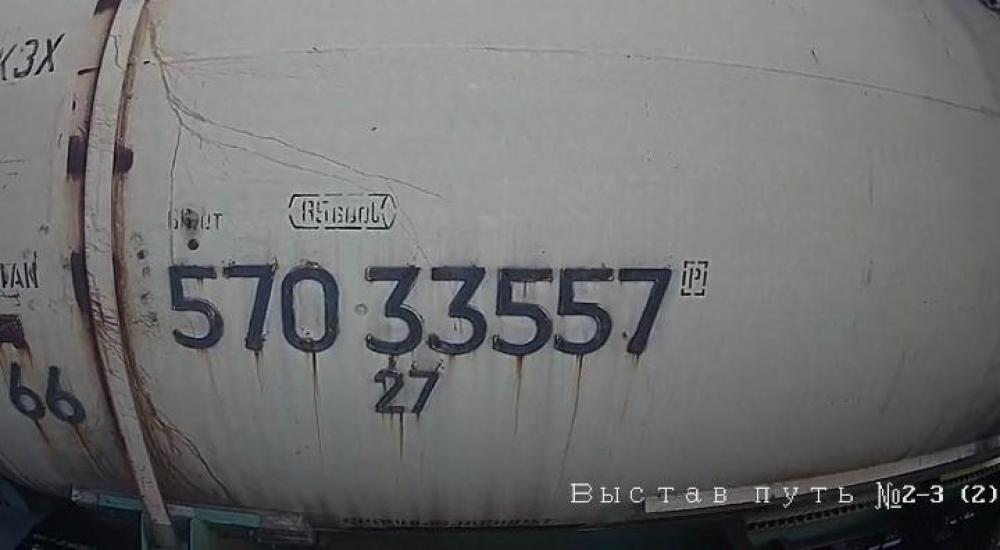Wagon-number: (162, 255, 678, 362)
